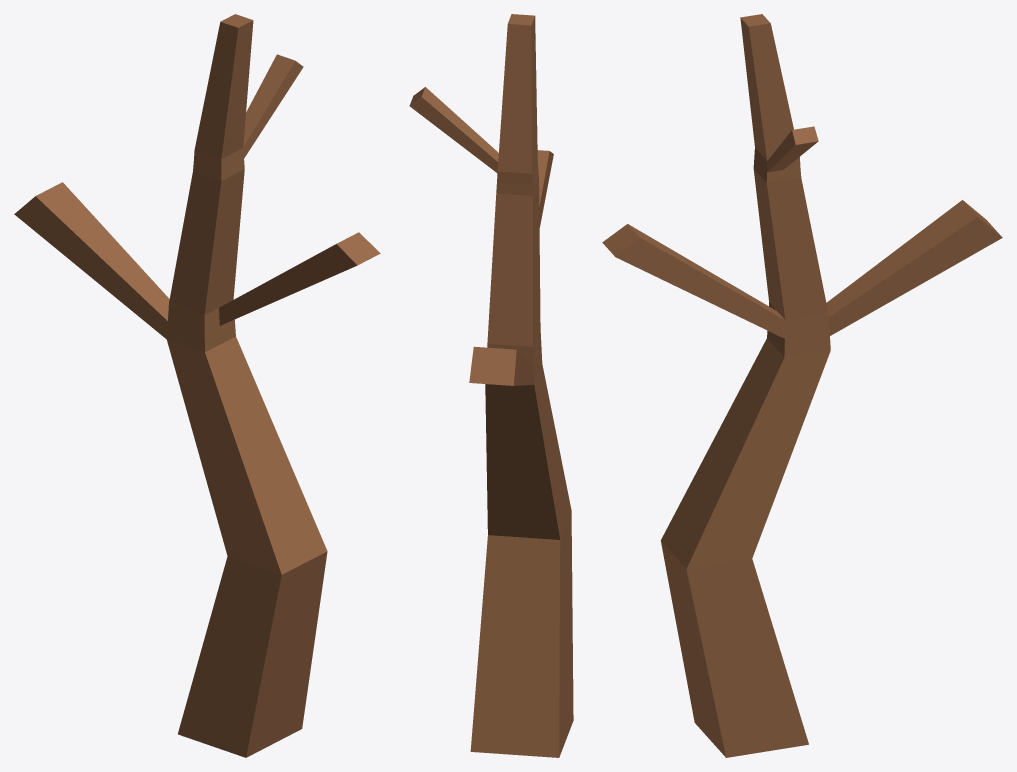
File: tree-summer-trunk-7-008.glb
The picture shows the model from 3 angles, left to right: view 1: azimuth 30°, elevation 25°; view 2: azimuth 150°, elevation 25°; view 3: azimuth 270°, elevation 25°; orthographic projection.
Parts seen in each view (by area): view 1: Trunk 7_115; view 2: Trunk 7_115; view 3: Trunk 7_115.
Boxes of the visible parts, x1,y1,x2,y2 form: Trunk 7_115: (14, 14, 380, 757); Trunk 7_115: (409, 14, 573, 757); Trunk 7_115: (602, 14, 1002, 757).
Bounding box in the file's own units: 0.4228 × 1.48 × 0.7514.
